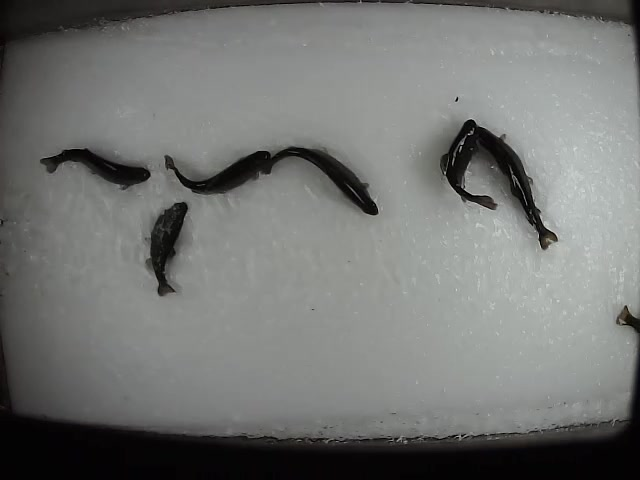fish: (466, 120, 560, 249), (266, 143, 380, 216), (440, 112, 499, 210), (162, 146, 274, 197), (40, 145, 152, 192), (143, 200, 194, 298)
